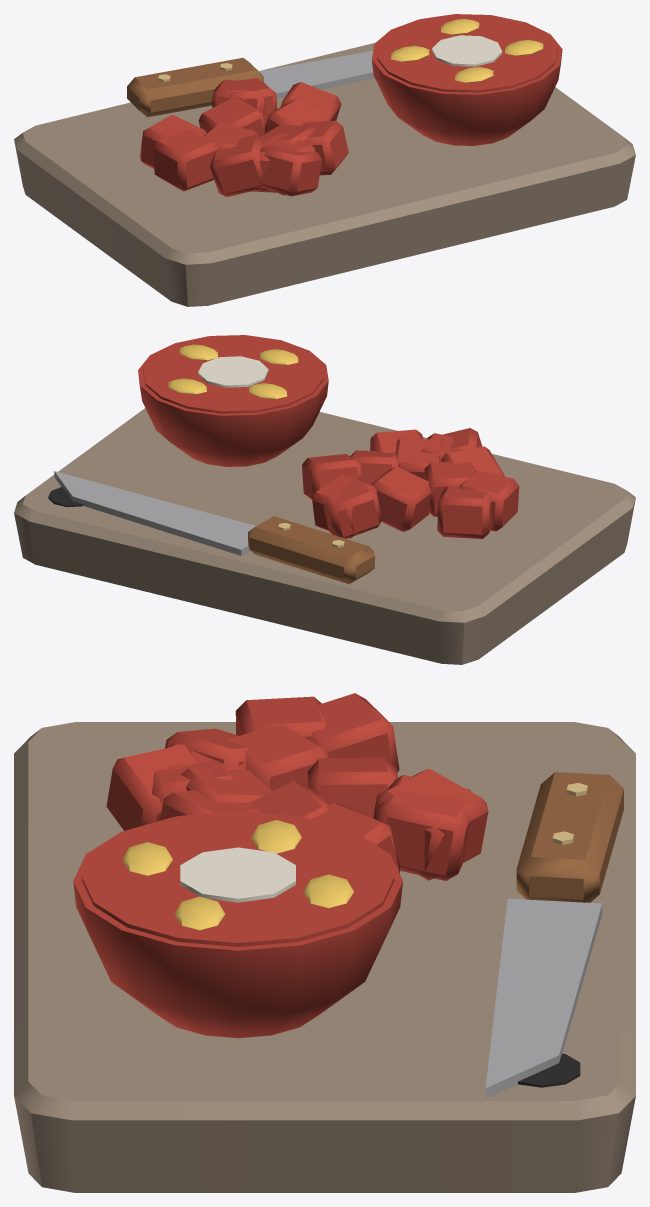
Rendered from cook_chopped_tomato.glb.
3 views of the same model, one above another, from view 1: azimuth 30°, elevation 25°; view 2: azimuth 150°, elevation 25°; view 3: azimuth 270°, elevation 25° (orthographic). The views are drawn at different scales.
Parts seen in each view (by area): view 1: body; view 2: body; view 3: body.
Part boxes in pixels (x1,y1,x2,y2): body: [14, 14, 635, 306]; body: [14, 335, 635, 664]; body: [14, 693, 635, 1192].
Bounding box in the file's own units: 0.064 × 0.0179 × 0.043.
